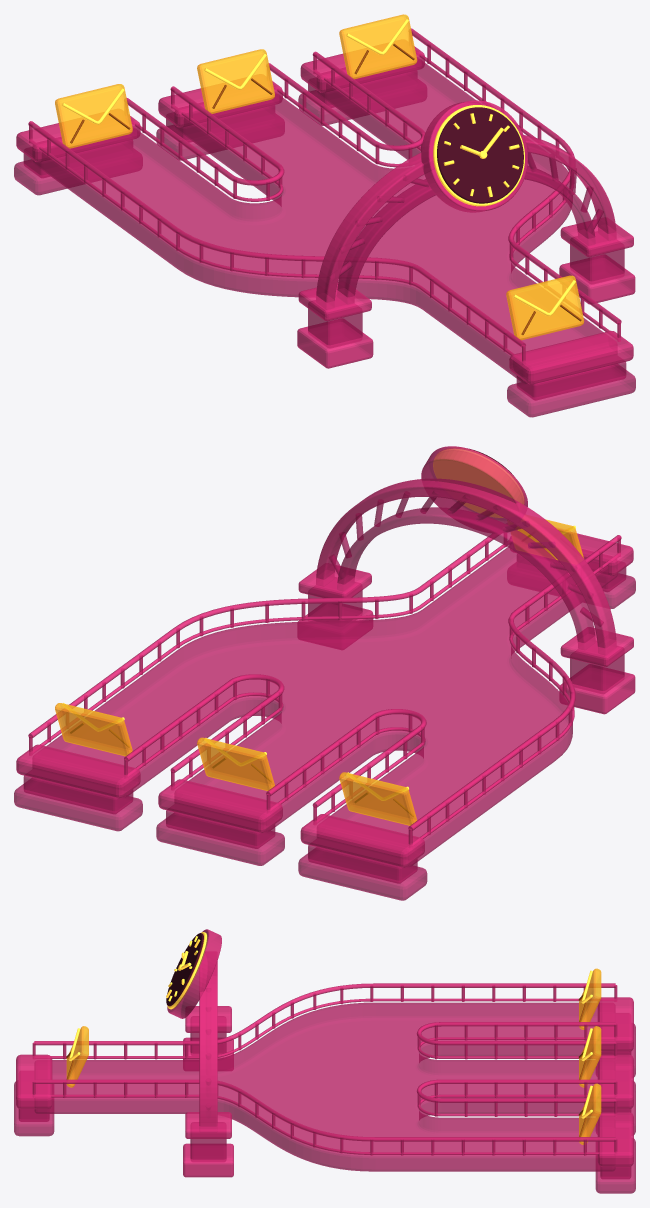
Rendered from eventbridge.glb.
3 views of the same model, one above another, from view 1: azimuth 30°, elevation 25°; view 2: azimuth 150°, elevation 25°; view 3: azimuth 270°, elevation 25° (orthographic). The views are drawn at different scales.
Visible parts, largest first — view 1: Continuous fork deck, Port, Clock face, Outer clock arch, Starboard, Inner clock arch, Entry footing, Entry landing, Left slot, Right slot, Right exit envelope, Left exit envelope (+21 smaller); view 2: Continuous fork deck, Outer clock arch, Starboard, Inner clock arch, Clock case, Port, Left exit footing, Right exit footing, Middle exit footing, Middle exit landing, Right exit landing, Left exit landing (+19 smaller); view 3: Continuous fork deck, Starboard, Port, Right slot, Left slot, Outer clock arch, Entry landing, Right exit landing, Middle exit landing, East plinth, Left exit landing, Clock case (+16 smaller).
Part boxes in pixels (<box>): Continuous fork deck: <box>32,57,617,383</box>; Port: <box>28,121,525,364</box>; Clock face: <box>437,107,523,203</box>; Outer clock arch: <box>316,135,616,309</box>; Starboard: <box>411,28,621,341</box>; Inner clock arch: <box>337,166,595,304</box>; Entry footing: <box>507,364,635,417</box>; Entry landing: <box>509,330,633,384</box>; Left slot: <box>126,86,284,201</box>; Right slot: <box>268,51,425,167</box>; Right exit envelope: <box>339,14,417,79</box>; Left exit envelope: <box>55,84,132,148</box>; Continuous fork deck: <box>32,544,617,866</box>; Outer clock arch: <box>316,479,616,655</box>; Starboard: <box>28,533,512,755</box>; Inner clock arch: <box>337,507,595,650</box>; Clock case: <box>421,446,527,532</box>; Port: <box>408,535,621,848</box>; Left exit footing: <box>298,847,427,900</box>; Right exit footing: <box>14,778,142,831</box>; Middle exit footing: <box>156,813,284,865</box>; Middle exit landing: <box>158,779,282,832</box>; Right exit landing: <box>16,744,140,798</box>; Left exit landing: <box>300,814,424,867</box>; Continuous fork deck: <box>34,1002,615,1171</box>; Starboard: <box>32,1079,617,1155</box>; Port: <box>32,983,617,1059</box>; Right slot: <box>416,1079,617,1116</box>; Left slot: <box>416,1022,617,1059</box>; Outer clock arch: <box>199,954,217,1132</box>; Entry landing: <box>16,1054,52,1109</box>; Right exit landing: <box>597,1112,633,1166</box>; Middle exit landing: <box>598,1054,633,1109</box>; East plinth: <box>183,1143,233,1177</box>; Left exit landing: <box>598,997,633,1051</box>; Clock case: <box>167,929,221,1018</box>.
Size of the model in its own units: 3.54 by 1.89 by 5.85.
